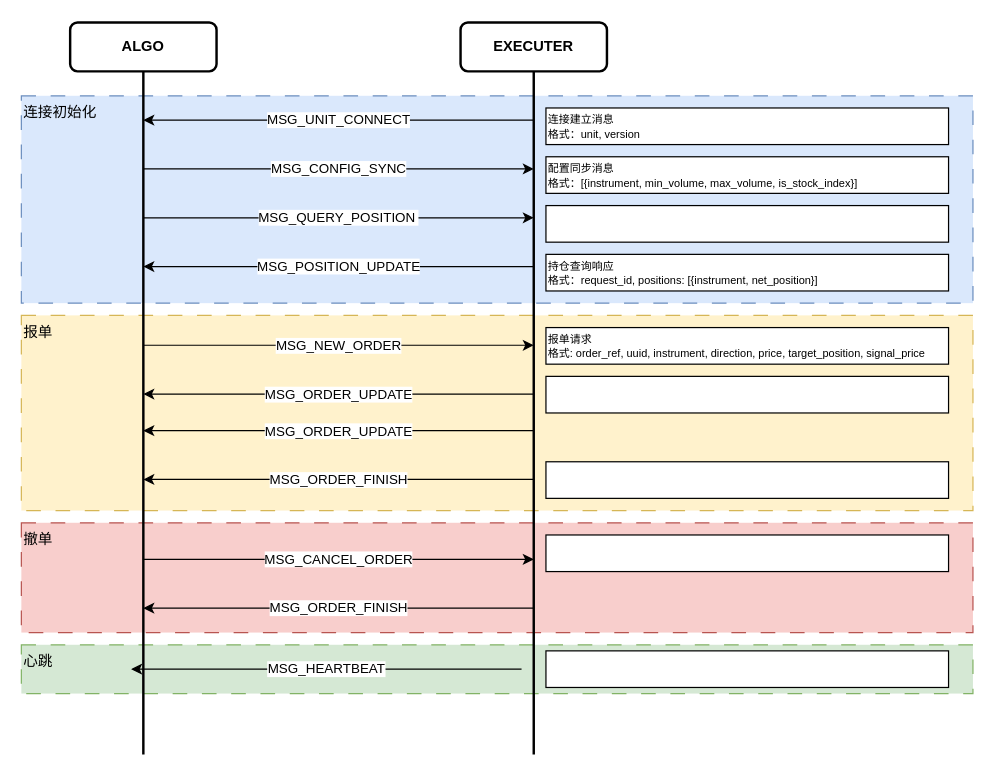
The diagram is 994 pixels wide and 777 high, and some of its shapes have lost their labels. The shapes that lost their labels are listed below. From the top down, each one's box as (x1, y1, x2, y2) in pixels, then its label:
(545, 204, 949, 242): 持仓查询请求 格式： request_id
(545, 375, 949, 413): 订单状态更新 格式: order_ref, instrument, status, filled, total
(545, 461, 949, 498): 订单成交回报 格式: order_ref, instrument, status, filled, total, reason
(545, 534, 949, 572): 撤单请求 格式: order_ref
(545, 650, 949, 687): 撤单请求 格式: seq
